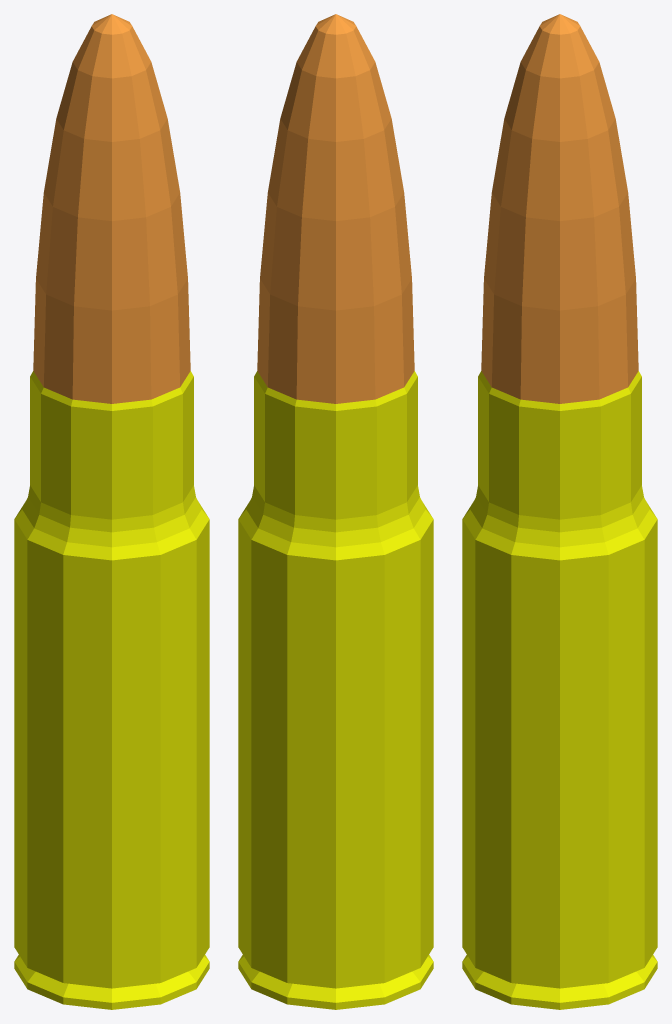
File: 7.62 Cartridge_3DModel_2.fbx
The picture shows the model from 3 angles, left to right: view 1: azimuth 30°, elevation 25°; view 2: azimuth 150°, elevation 25°; view 3: azimuth 270°, elevation 25°; orthographic projection.
Visible parts, largest first — view 1: Casing, Bullet; view 2: Casing, Bullet; view 3: Casing, Bullet.
Part boxes in pixels (box(x1,y1,x2,y2)): Casing: box(14, 371, 209, 1009); Bullet: box(33, 14, 190, 403); Casing: box(238, 371, 433, 1009); Bullet: box(257, 14, 414, 403); Casing: box(462, 371, 657, 1009); Bullet: box(481, 14, 638, 403).
Size of the model in its own units: 0.062 by 0.3345 by 0.062.
